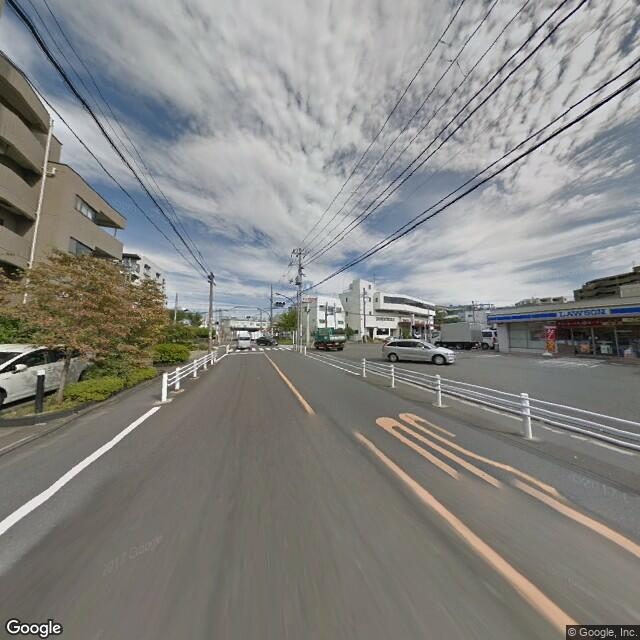lawson: (488, 300, 639, 326)
